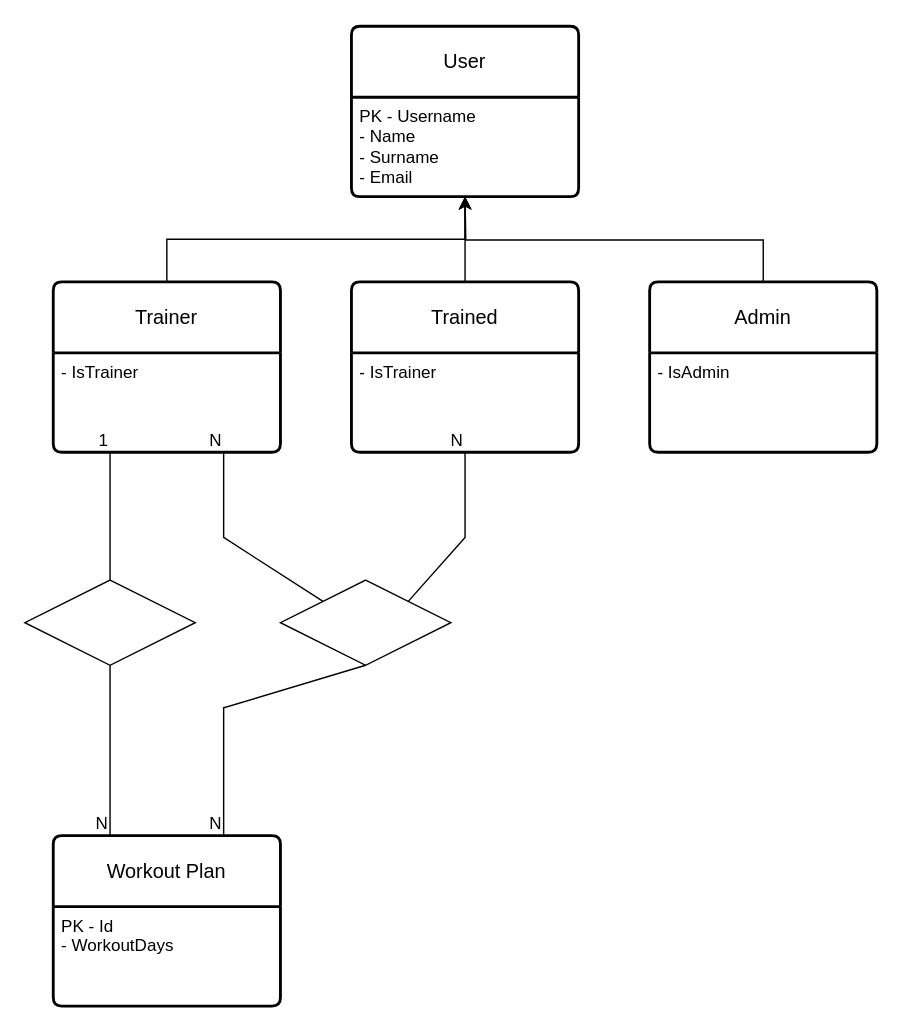
This 903x1031 diagram has some shape labels left out. Each missing label, with the centre of its shape:
"Makes" belongs at point 109,622.
"Uses" belongs at point 365,622.
